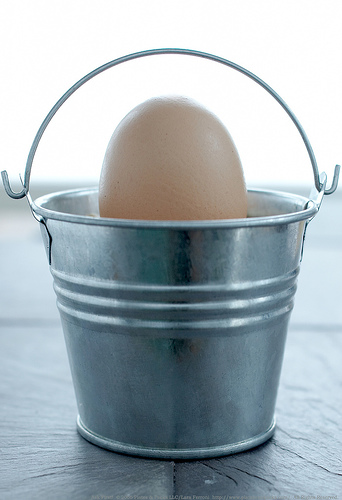egg: (93, 95, 250, 218)
